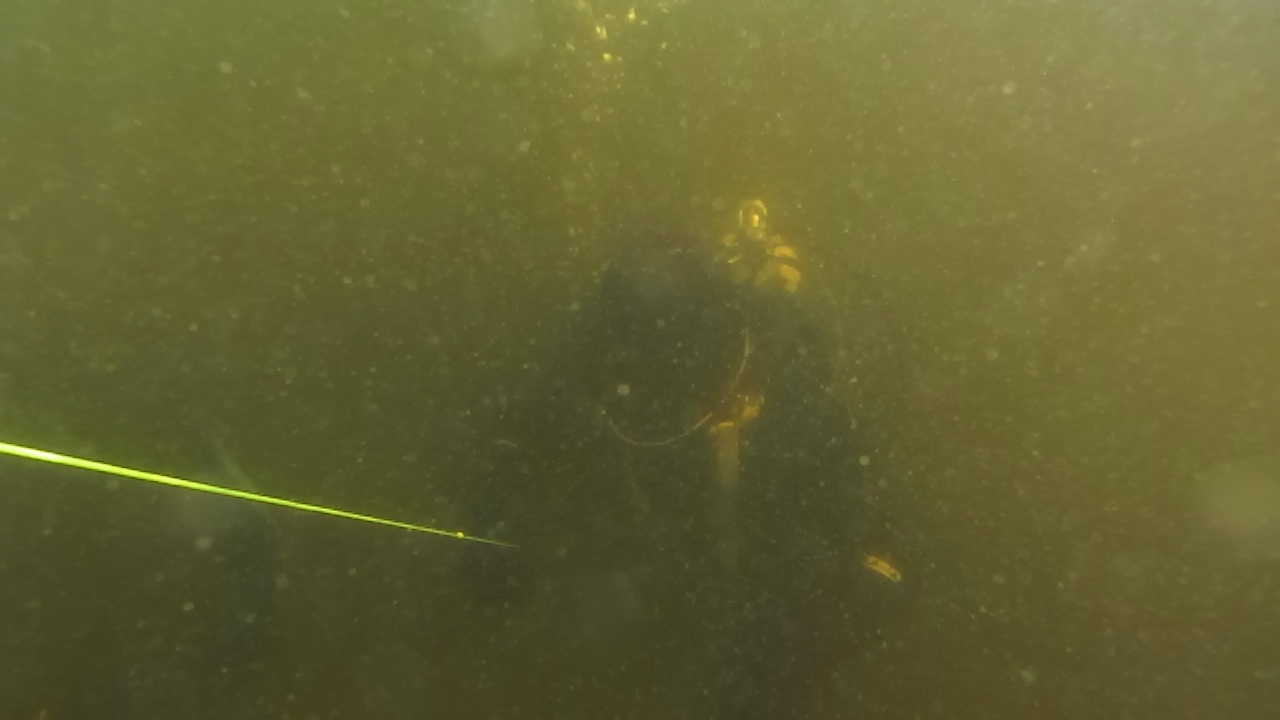Diver: (412, 194, 948, 690)
Head: (540, 222, 824, 450)
